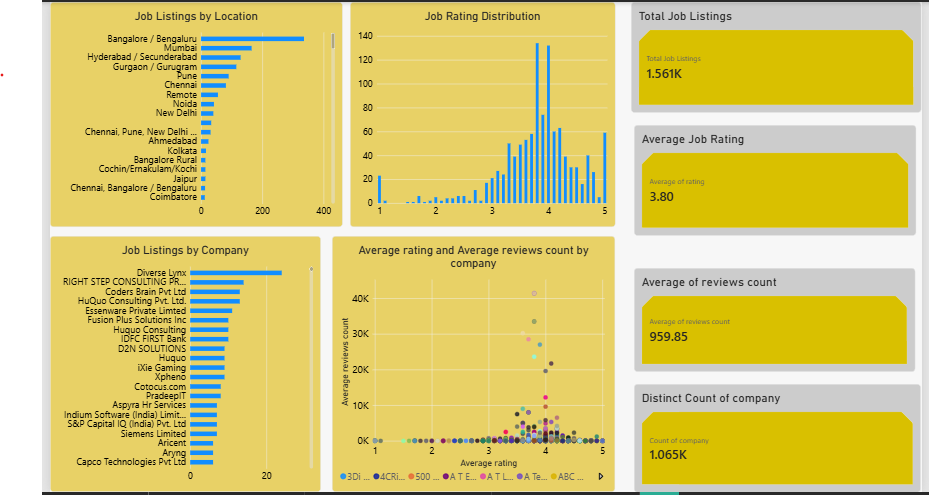

What the dashboard file says about the page in this screenshot:
{"tool":"powerbi","page":{"name":"Job Market Overview","canvas":[1920,1080],"ordinal":0},"visuals":[{"type":"clusteredBarChart","title":"Job Listings by Location","fields":{"Category":["dataAnalystJobsIndia_7th_July_2024.location"],"Y":["CountNonNull(dataAnalystJobsIndia_7th_July_2024.job_title)"]},"box":[0,0,645,496.4],"z":0},{"type":"clusteredBarChart","title":"Job Listings by Company","fields":{"Category":["dataAnalystJobsIndia_7th_July_2024.company"],"Y":["CountNonNull(dataAnalystJobsIndia_7th_July_2024.job_title)"]},"box":[0,516.5,597.2,564.4],"z":1000},{"type":"columnChart","title":"Job Rating Distribution","fields":{"Category":["dataAnalystJobsIndia_7th_July_2024.rating"],"Y":["CountNonNull(dataAnalystJobsIndia_7th_July_2024.rating)"]},"box":[660.2,0,584.6,496.4],"z":2000},{"type":"scatterChart","title":"Average rating and Average reviews count  by company","fields":{"Series":["dataAnalystJobsIndia_7th_July_2024.company"],"X":["Avg(dataAnalystJobsIndia_7th_July_2024.rating)"],"Y":["Avg(dataAnalystJobsIndia_7th_July_2024.reviews count)"]},"box":[621.6,515.8,623.8,564.2],"z":3000},{"type":"cardVisual","title":"Total Job Listings","fields":{"Data":["CountNonNull(dataAnalystJobsIndia_7th_July_2024.job_title)"]},"box":[1280,0,640,244.4],"z":4000},{"type":"cardVisual","title":"Average Job Rating","fields":{"Data":["Avg(dataAnalystJobsIndia_7th_July_2024.rating)"]},"box":[1287.6,272.1,622.4,244.4],"z":5000},{"type":"cardVisual","title":"Average of reviews count","fields":{"Data":["Avg(dataAnalystJobsIndia_7th_July_2024.reviews count)"]},"box":[1287.6,587.1,619.8,229.3],"z":6000},{"type":"cardVisual","title":"Distinct Count of company","fields":{"Data":["Count(dataAnalystJobsIndia_7th_July_2024.company)"]},"box":[1287.6,841.6,632.4,239.4],"z":7000}]}

Visuals, with their boxes on the page's 1920x1080 design canvas (x1, y1, x2, y2). These are canvas units, not pixel positions in the 929x495 screenshot, which may show the page scaled, cropped or inside an application window:
"Job Listings by Location" clusteredBarChart: 0:0:645:496
"Job Listings by Company" clusteredBarChart: 0:516:597:1081
"Job Rating Distribution" columnChart: 660:0:1245:496
"Average rating and Average reviews count  by company" scatterChart: 622:516:1245:1080
"Total Job Listings" cardVisual: 1280:0:1920:244
"Average Job Rating" cardVisual: 1288:272:1910:516
"Average of reviews count" cardVisual: 1288:587:1907:816
"Distinct Count of company" cardVisual: 1288:842:1920:1081
